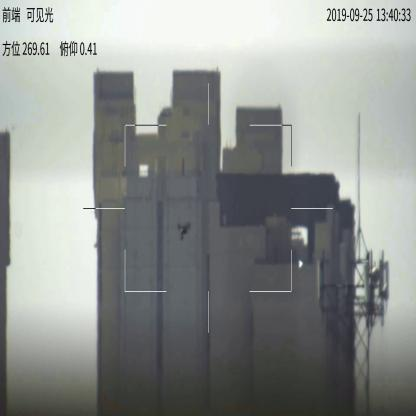uav: (176, 218, 193, 241)
